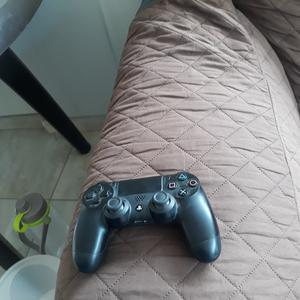controller: (73, 172, 221, 273)
